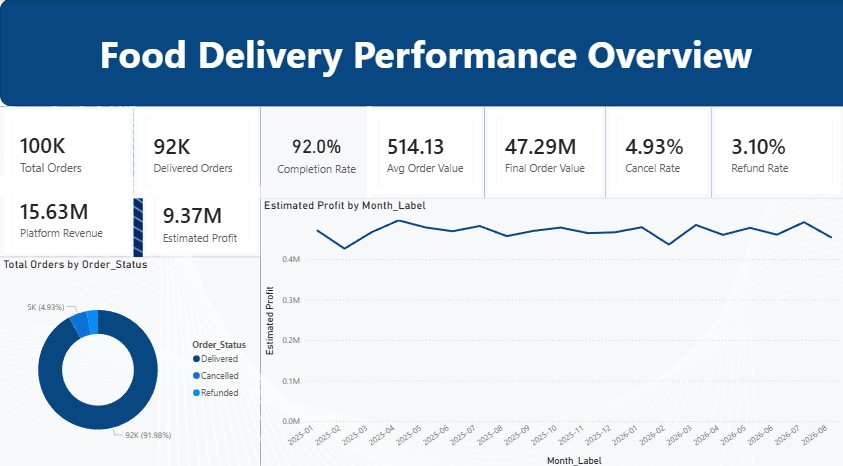

What the dashboard file says about the page in this screenshot:
{"tool":"powerbi","page":{"name":"01_Executive_Overview","canvas":[1280,720],"ordinal":0},"visuals":[{"type":"cardVisual","fields":{"Data":["orders.Total Orders"]},"box":[0,161.5,200.9,137.9],"z":0},{"type":"card","fields":{"Values":["orders.Completion Rate"]},"box":[392,161.5,167.4,137.9],"z":1},{"type":"cardVisual","fields":{"Data":["orders.Delivered Orders"]},"box":[200.9,161.5,191.1,137.9],"z":2},{"type":"cardVisual","fields":{"Data":["orders.Estimated Profit"]},"box":[214.7,281.7,177.3,106.4],"z":3},{"type":"cardVisual","fields":{"Data":["Date_Table.Avg Order Value"]},"box":[551.5,161.5,177.3,137.9],"z":6},{"type":"cardVisual","fields":{"Data":["Date_Table.Cancel Rate"]},"box":[910,161.5,159.5,137.9],"z":7},{"type":"cardVisual","fields":{"Data":["Date_Table.Refund Rate"]},"box":[1069.5,161.5,200.9,137.9],"z":8},{"type":"shape","box":[0,0,1280.6,161],"z":10},{"type":"cardVisual","fields":{"Data":["Date_Table.Final Order Value"]},"box":[728.8,161.5,181.2,137.9],"z":11},{"type":"cardVisual","fields":{"Data":["Date_Table.Platform Revenue"]},"box":[0,267.9,200.9,120.2],"z":12},{"type":"lineChart","fields":{"Y":["orders.Estimated Profit"],"Category":["orders.Month_Label"]},"box":[392,299.4,878.5,407.7],"z":13},{"type":"donutChart","fields":{"Category":["orders.Order_Status"],"Y":["orders.Total Orders"]},"box":[0,388,392,319.1],"z":14}]}

Visuals, with their boxes in screenshot pixels (x1, y1, x2, y2), scaled from the page's 1280x720 canvas onto the 843x466 screenshot:
cardVisual - orders.Total Orders: (left=0, top=105, right=132, bottom=194)
card - orders.Completion Rate: (left=258, top=105, right=368, bottom=194)
cardVisual - orders.Delivered Orders: (left=132, top=105, right=258, bottom=194)
cardVisual - orders.Estimated Profit: (left=141, top=182, right=258, bottom=251)
cardVisual - Date_Table.Avg Order Value: (left=363, top=105, right=480, bottom=194)
cardVisual - Date_Table.Cancel Rate: (left=599, top=105, right=704, bottom=194)
cardVisual - Date_Table.Refund Rate: (left=704, top=105, right=837, bottom=194)
shape: (left=0, top=0, right=842, bottom=104)
cardVisual - Date_Table.Final Order Value: (left=480, top=105, right=599, bottom=194)
cardVisual - Date_Table.Platform Revenue: (left=0, top=173, right=132, bottom=251)
lineChart - orders.Estimated Profit x orders.Month_Label: (left=258, top=194, right=837, bottom=458)
donutChart - orders.Order_Status x orders.Total Orders: (left=0, top=251, right=258, bottom=458)
